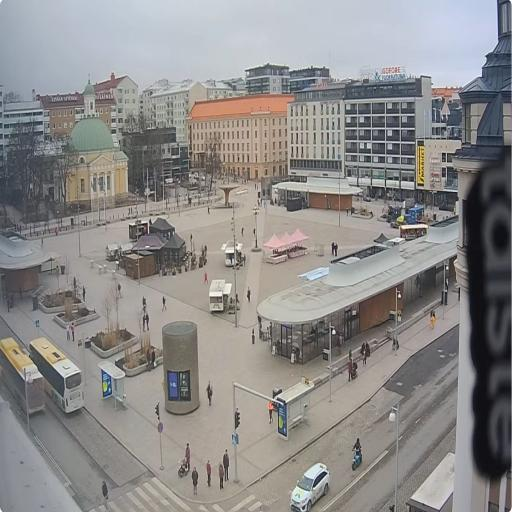bus: (26, 336, 86, 416), (0, 335, 50, 420)
car: (290, 460, 331, 512), (363, 193, 371, 203), (208, 176, 218, 184), (194, 172, 200, 181), (200, 174, 205, 180)
two-wheels: (351, 432, 363, 473)
